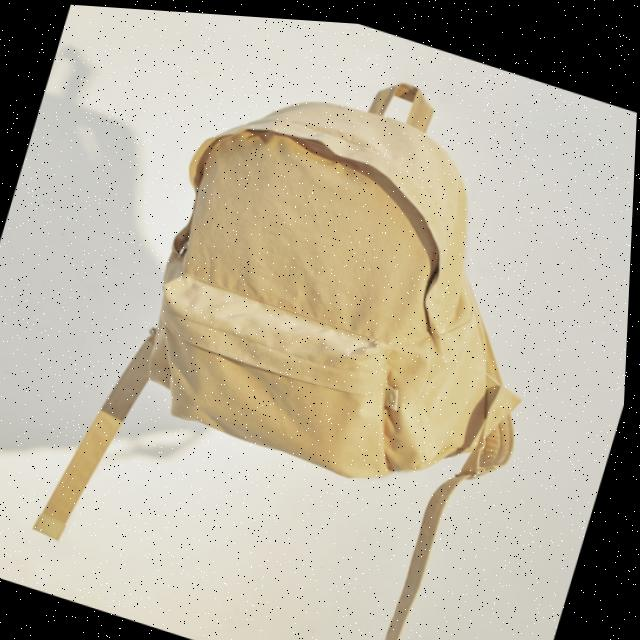backpack: (66, 4, 610, 557)
